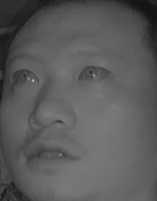eye: (76, 61, 113, 86), (9, 65, 41, 87)
mouth: (21, 135, 84, 173)
